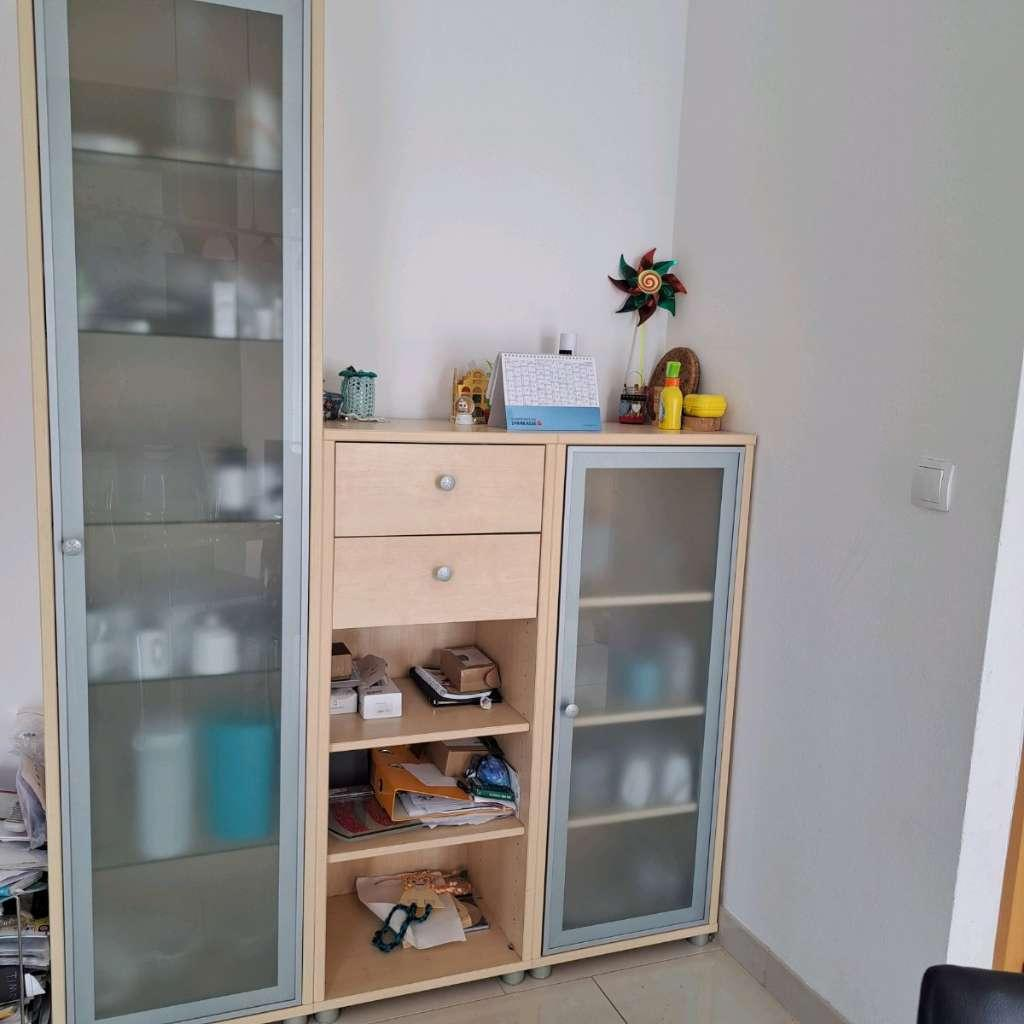cabinet_door: (53, 0, 296, 1014), (555, 458, 736, 938), (339, 445, 540, 532), (336, 537, 535, 622)
handle: (55, 532, 92, 565), (430, 556, 454, 589), (434, 467, 458, 499), (559, 696, 583, 724)
